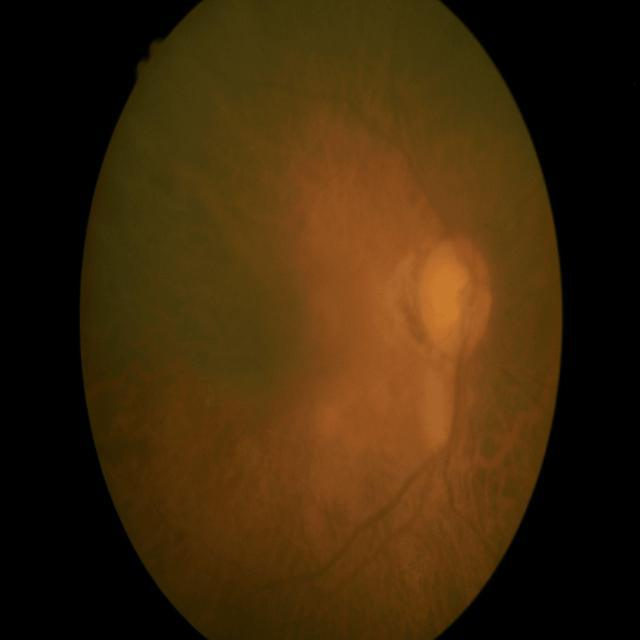cup: (432, 257, 478, 336)
disk: (420, 238, 492, 356)
